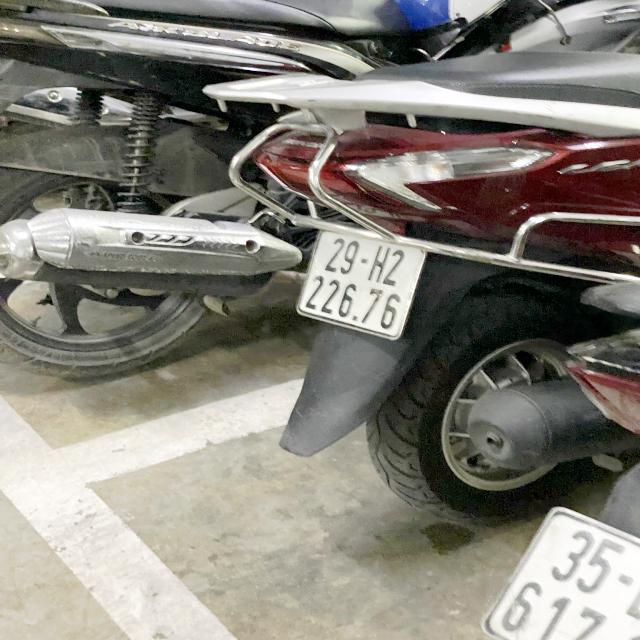license_plate: (295, 229, 430, 342)
